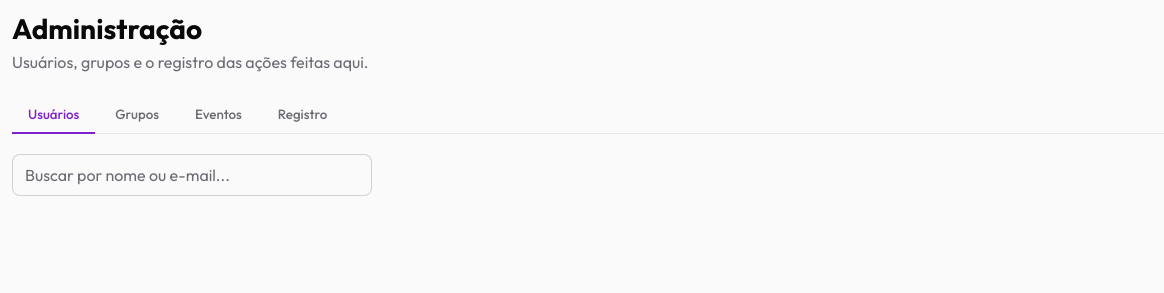
Scenario: Admin — grupos, eventos e registro › registro: traduz a ação e mostra quem fez
Click the button "Registro" at (302, 115), box top-left (262, 96), bottom-right (343, 134)
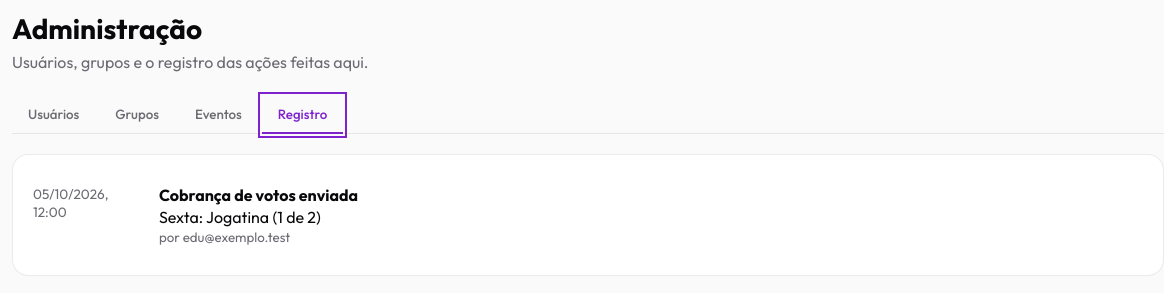
Now the text "Cobrança de votos enviada" is shown, box top-left (159, 185), bottom-right (358, 205)
Now the text "Sexta: Jogatina (1 de 2)" is shown, box top-left (159, 207), bottom-right (321, 227)
Now the text "por edu@exemplo.test" is shown, box top-left (159, 229), bottom-right (290, 245)
